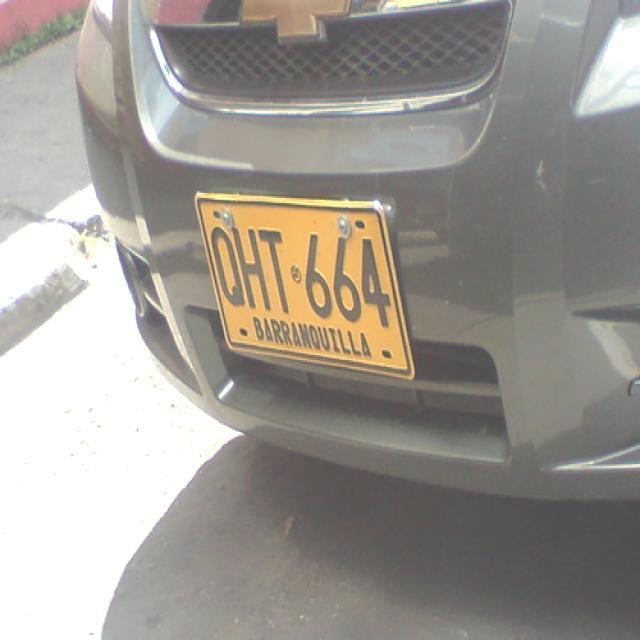placa: (191, 188, 418, 384)
